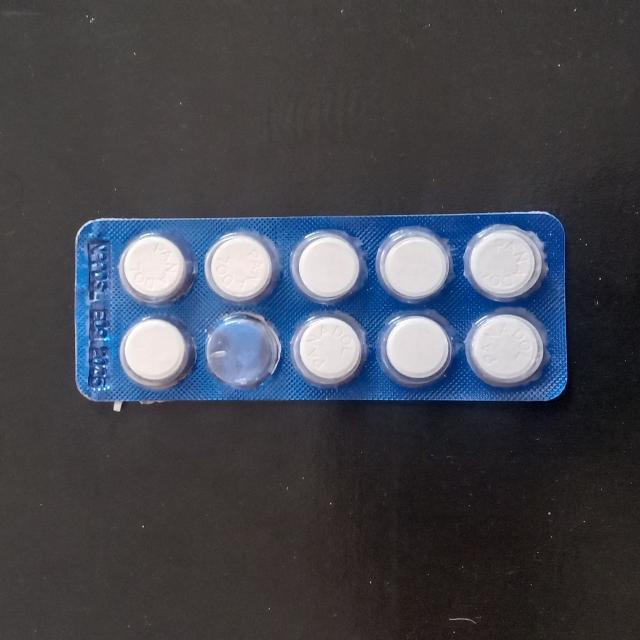defect: (201, 307, 286, 398)
